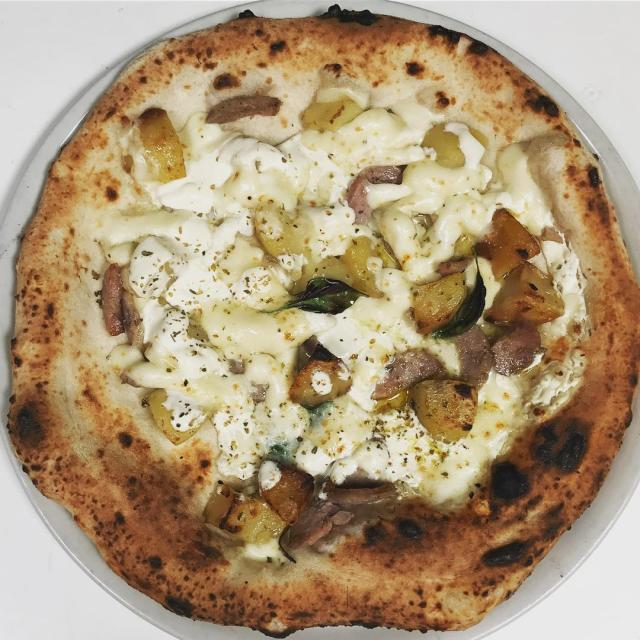basil: (434, 255, 489, 346), (272, 271, 369, 320), (262, 437, 292, 462)
pizza: (9, 10, 640, 635)
